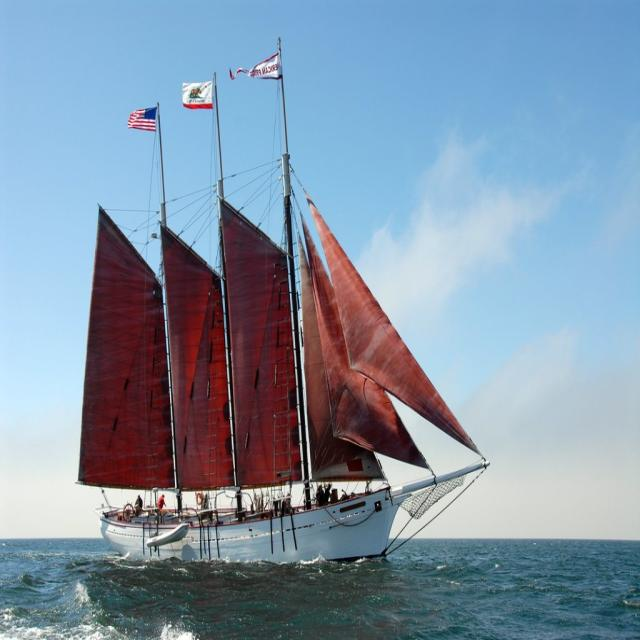Boat: (48, 59, 492, 588)
